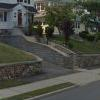Palm tree: (43, 6, 88, 43)
